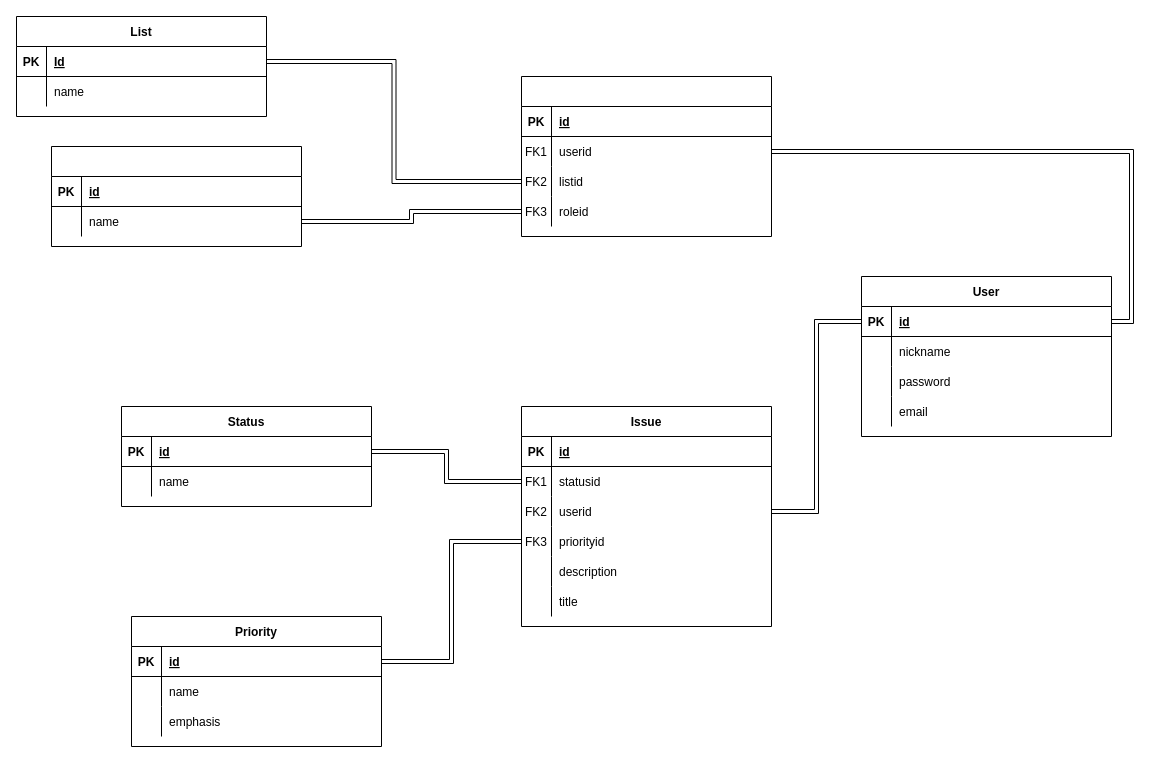
Image size: 1150x763. Some labels were removed from this diagram. The shapes that lost their labels are listed below. From the top down, each one's box as (x1, y1, x2, y2) in pixels, then its label:
(520, 76, 772, 236): Share
(50, 146, 302, 246): Role
